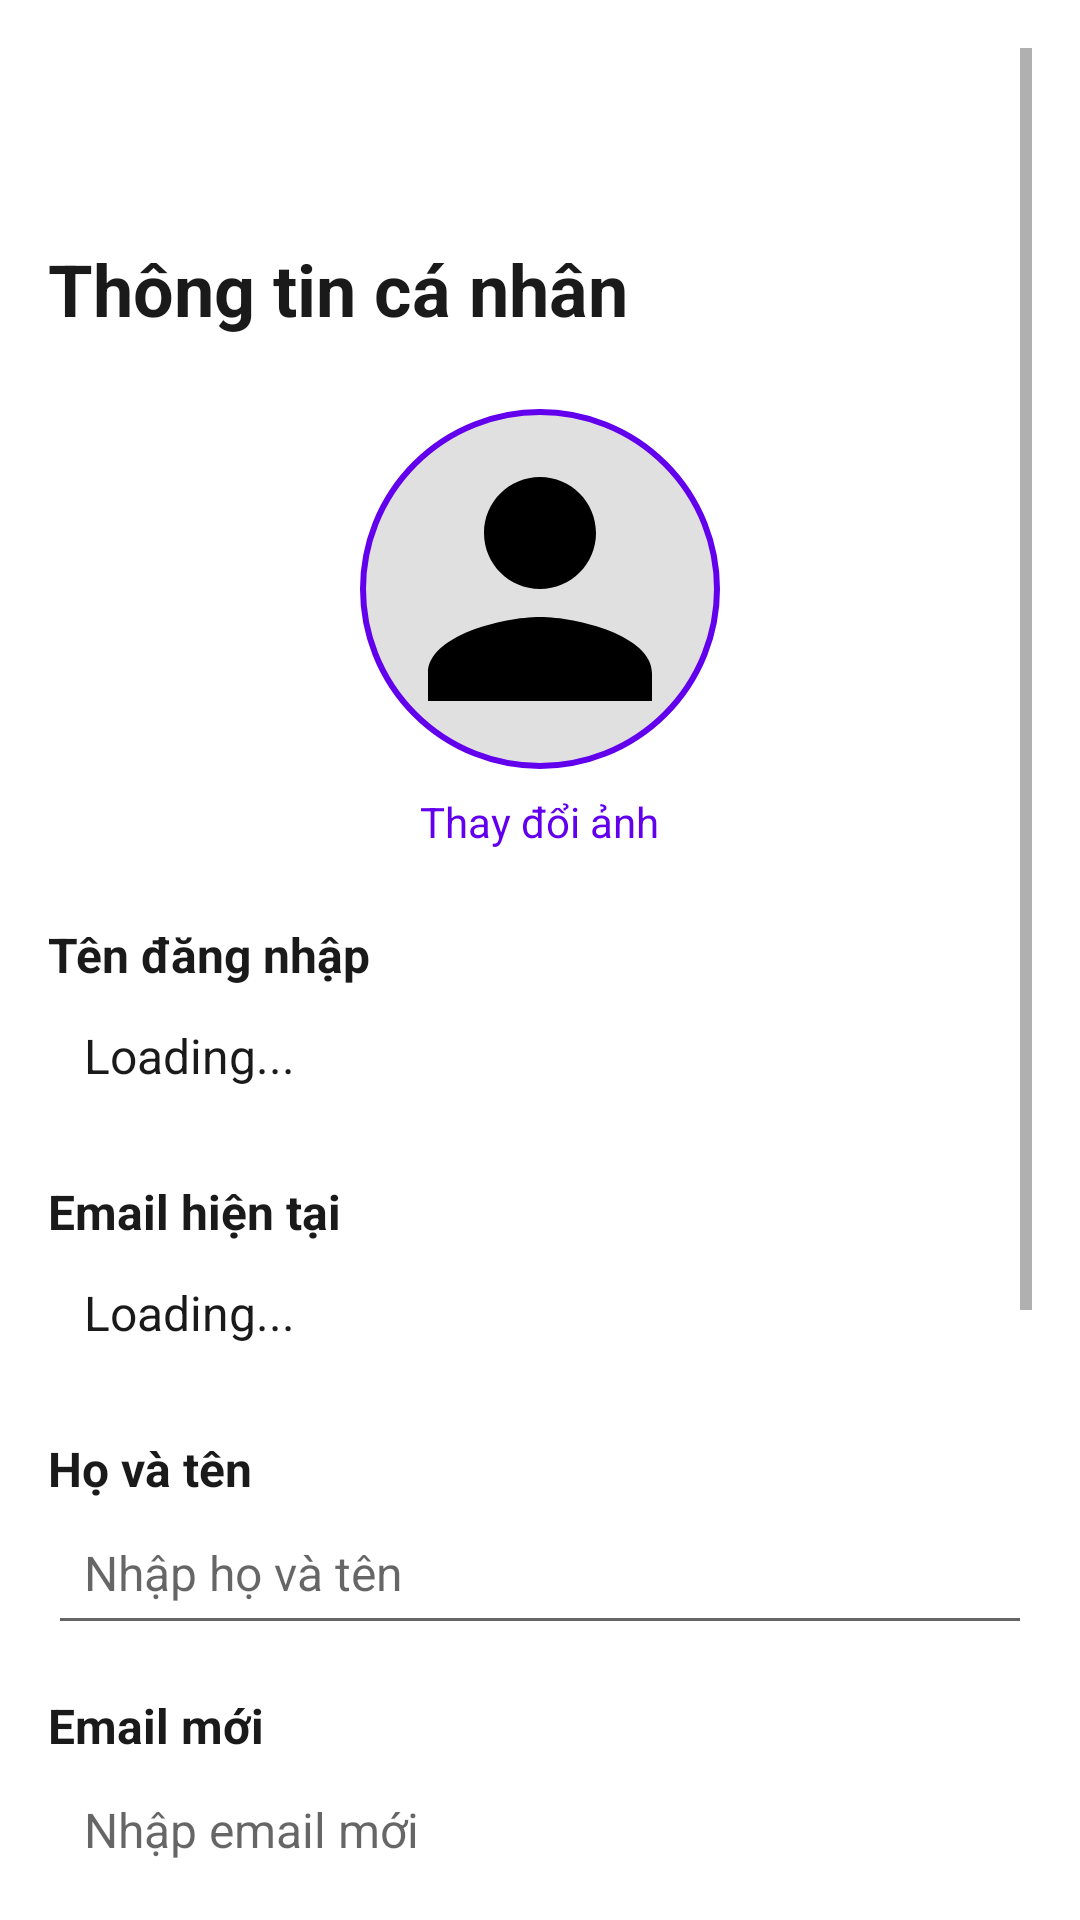

Screen size 1080px×1920px. Icon name, then its center in pixels as [x,y]:
person: [540,589]
